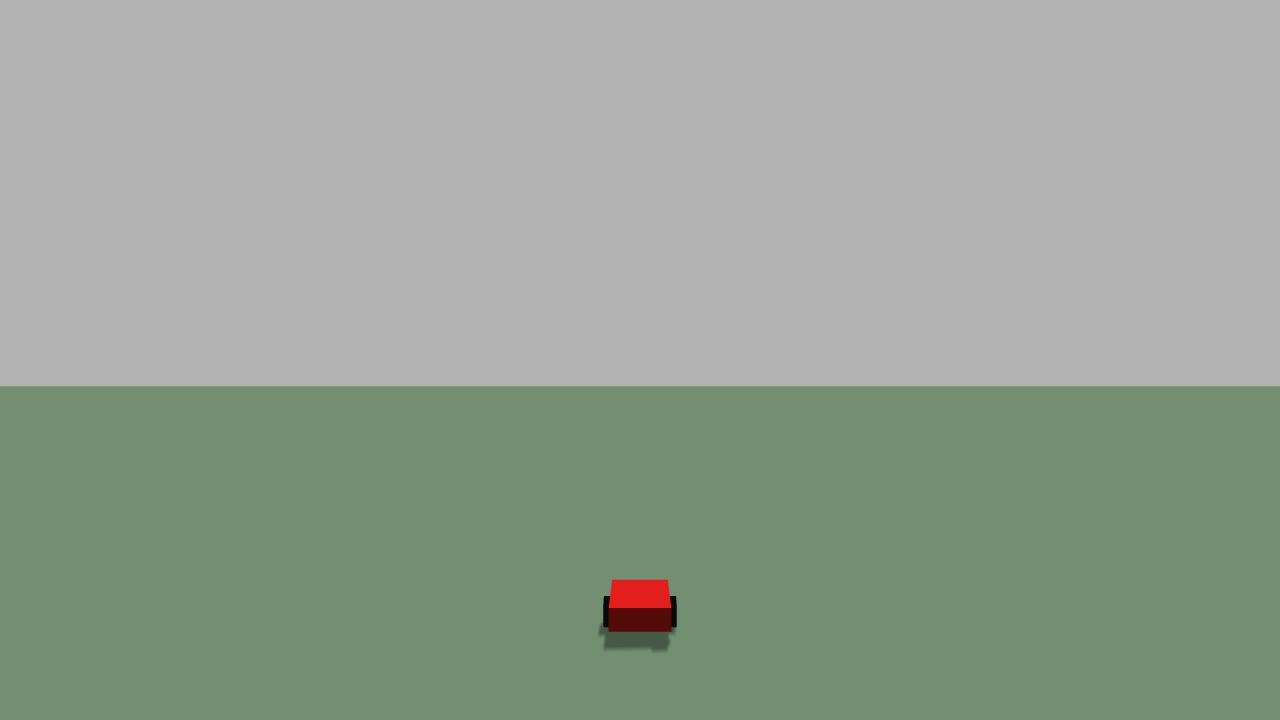ground_vehicle: (595, 564, 685, 650)
